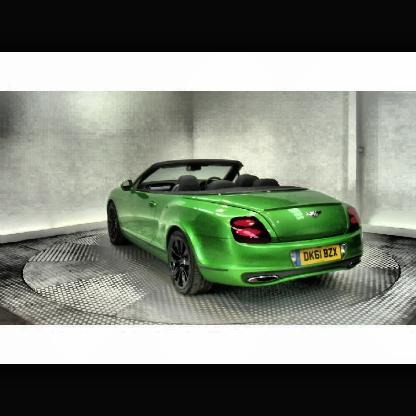Bentley Continental Supersports Conv- Convertible 2012: (106, 158, 366, 296)
